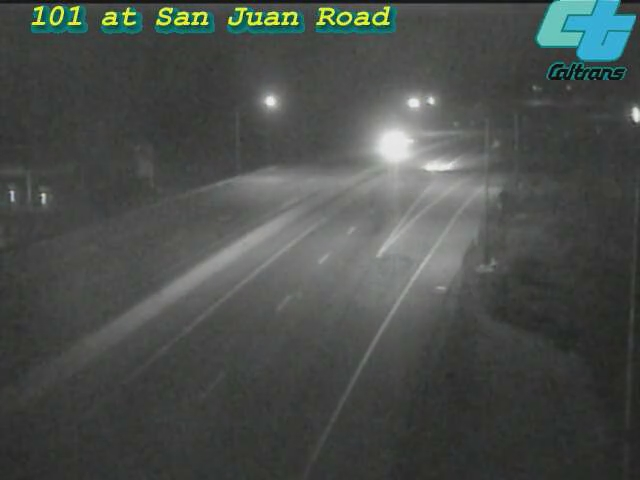vehicle: (391, 126, 471, 206), (367, 121, 417, 171)
